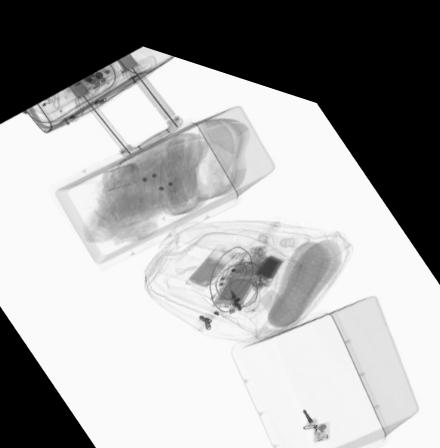Powerbank: (209, 243, 262, 294)
